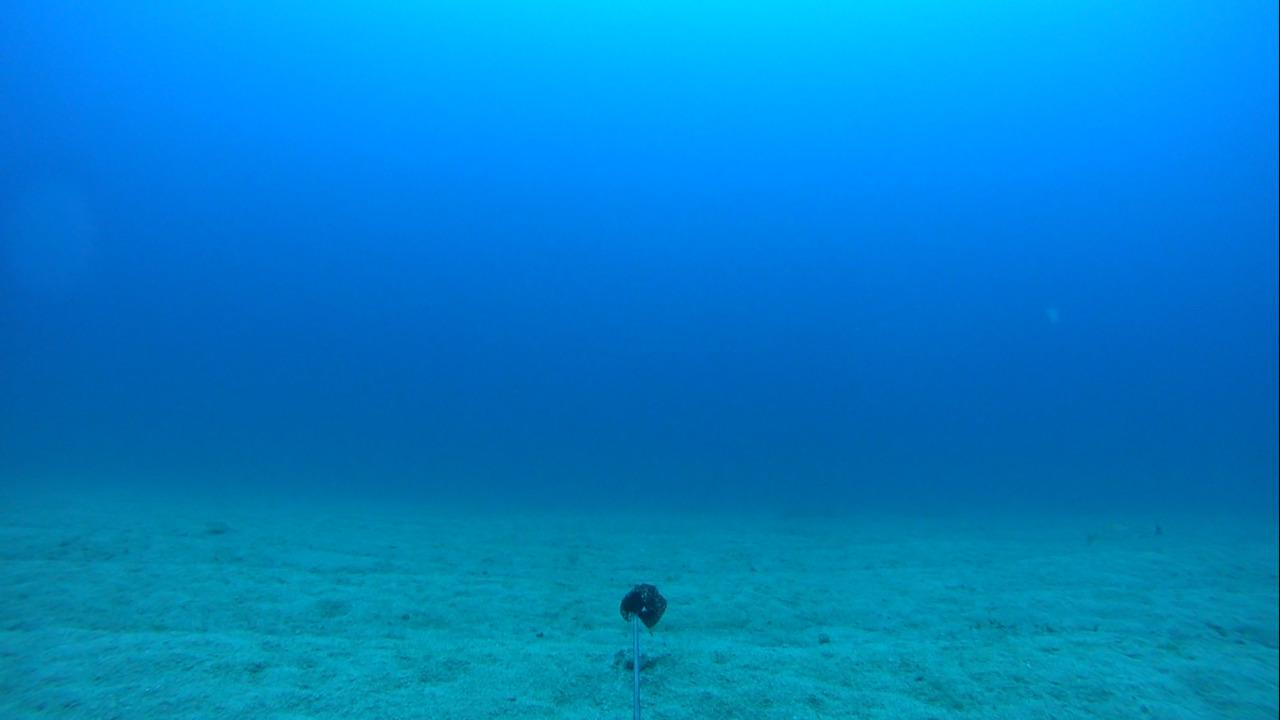dactylopterus: (1069, 511, 1169, 558)
